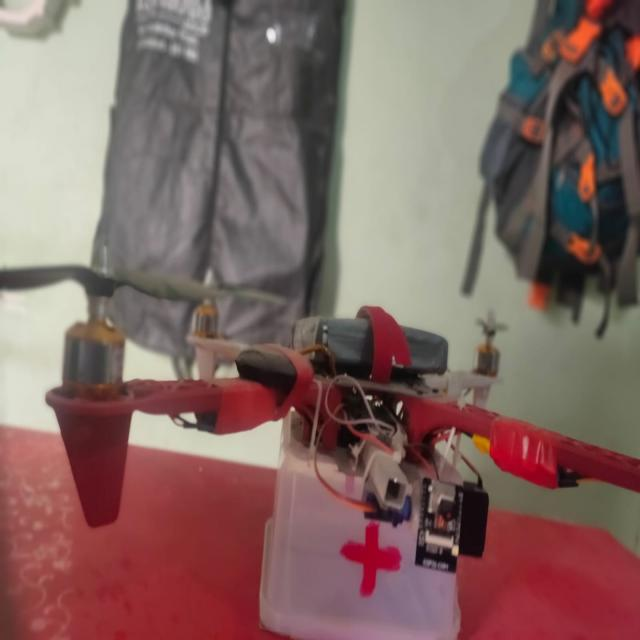Drone: (7, 230, 637, 630)
